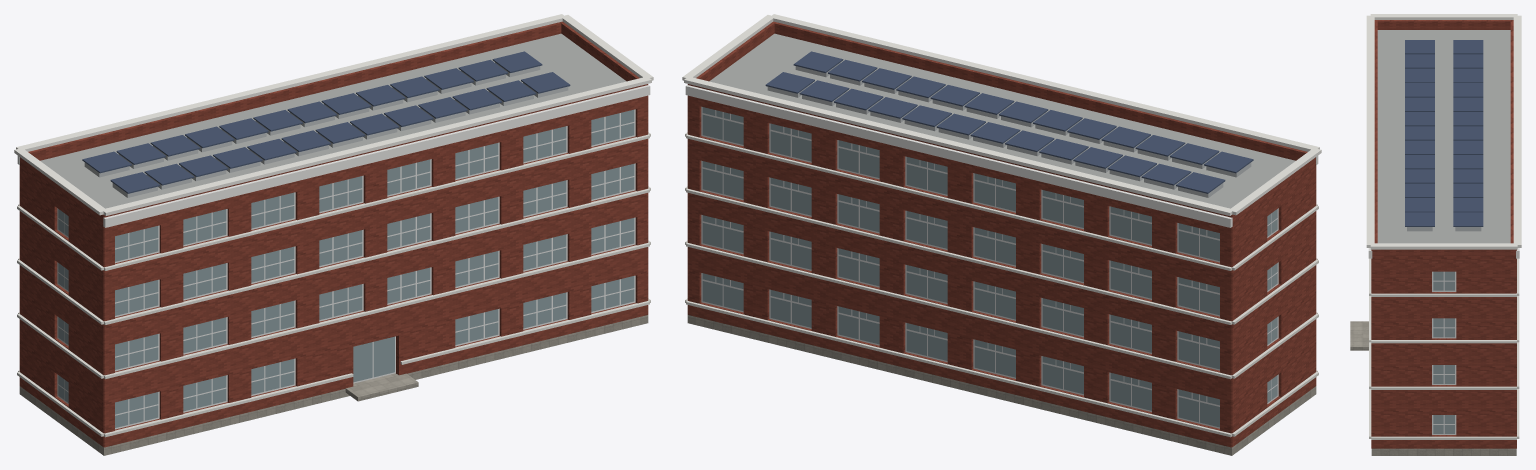
The picture shows the model from 3 angles, left to right: view 1: azimuth 30°, elevation 25°; view 2: azimuth 150°, elevation 25°; view 3: azimuth 270°, elevation 25°; orthographic projection. The views are drawn at different scales.
Parts seen in each view (by area): view 1: rear-wing__brick, rear-wing__glass, rear-wing__solar, rear-wing__roof, rear-wing__sillband, rear-wing__coping, rear-wing__frame, rear-wing__white, rear-wing__stone, rear-wing__steel, rear-wing__threshold-rear-entry, rear-wing__sideglass; view 2: rear-wing__brick, rear-wing__glass, rear-wing__solar, rear-wing__roof, rear-wing__sillband, rear-wing__coping, rear-wing__frame, rear-wing__white, rear-wing__stone, rear-wing__steel, rear-wing__sideglass; view 3: rear-wing__brick, rear-wing__roof, rear-wing__solar, rear-wing__coping, rear-wing__sillband, rear-wing__sideglass, rear-wing__stone, rear-wing__frame, rear-wing__threshold-rear-entry, rear-wing__steel.
Boxes of the visible parts, x1=… form: rear-wing__brick: x1=19, y1=21, x2=648, y2=447; rear-wing__glass: x1=115, y1=109, x2=634, y2=427; rear-wing__solar: x1=82, y1=51, x2=570, y2=193; rear-wing__roof: x1=40, y1=33, x2=626, y2=208; rear-wing__sillband: x1=17, y1=132, x2=650, y2=437; rear-wing__coping: x1=14, y1=14, x2=653, y2=215; rear-wing__frame: x1=57, y1=109, x2=635, y2=429; rear-wing__white: x1=17, y1=84, x2=650, y2=227; rear-wing__stone: x1=19, y1=315, x2=648, y2=455; rear-wing__steel: x1=84, y1=62, x2=568, y2=197; rear-wing__threshold-rear-entry: x1=345, y1=373, x2=418, y2=401; rear-wing__sideglass: x1=58, y1=209, x2=68, y2=402; rear-wing__brick: x1=687, y1=21, x2=1316, y2=447; rear-wing__glass: x1=702, y1=107, x2=1219, y2=427; rear-wing__solar: x1=765, y1=51, x2=1253, y2=193; rear-wing__roof: x1=709, y1=33, x2=1295, y2=208; rear-wing__sillband: x1=685, y1=132, x2=1318, y2=437; rear-wing__coping: x1=682, y1=14, x2=1321, y2=215; rear-wing__frame: x1=701, y1=106, x2=1278, y2=428; rear-wing__white: x1=685, y1=84, x2=1318, y2=227; rear-wing__stone: x1=687, y1=315, x2=1316, y2=455; rear-wing__steel: x1=767, y1=62, x2=1251, y2=197; rear-wing__sideglass: x1=1267, y1=209, x2=1277, y2=402; rear-wing__brick: x1=1371, y1=20, x2=1516, y2=448; rear-wing__roof: x1=1377, y1=30, x2=1510, y2=243; rear-wing__solar: x1=1405, y1=40, x2=1483, y2=226; rear-wing__coping: x1=1366, y1=14, x2=1521, y2=249; rear-wing__sillband: x1=1369, y1=258, x2=1519, y2=439; rear-wing__sideglass: x1=1433, y1=271, x2=1454, y2=433; rear-wing__stone: x1=1371, y1=448, x2=1516, y2=455; rear-wing__frame: x1=1432, y1=271, x2=1456, y2=434; rear-wing__threshold-rear-entry: x1=1350, y1=321, x2=1368, y2=350; rear-wing__steel: x1=1407, y1=227, x2=1481, y2=231.
Size of the model in its own units: 36.44 by 15.42 by 11.32.
Materials: 12 (2 with a texture image).
